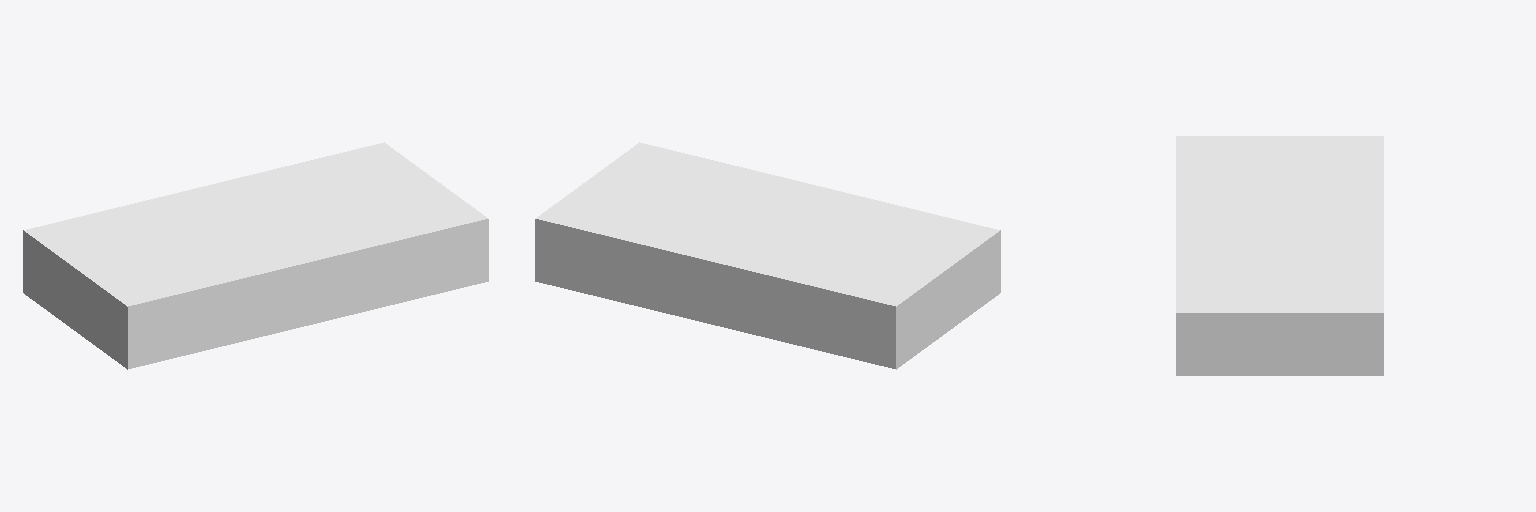
The model's file is short_logSW.vox.obj.
3 views of the same model, side by side, from view 1: azimuth 30°, elevation 25°; view 2: azimuth 150°, elevation 25°; view 3: azimuth 270°, elevation 25° (orthographic).
Visible parts, largest first — view 1: object 1; view 2: object 1; view 3: object 1.
Part boxes in pixels (bbox=[...]): object 1: bbox=[23, 142, 488, 369]; object 1: bbox=[535, 142, 1000, 369]; object 1: bbox=[1176, 136, 1383, 375].
Bounding box in the file's own units: 1.2 × 0.2 × 0.6.